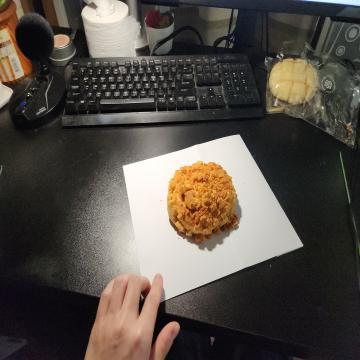soboru_bread: (169, 161, 239, 245)
